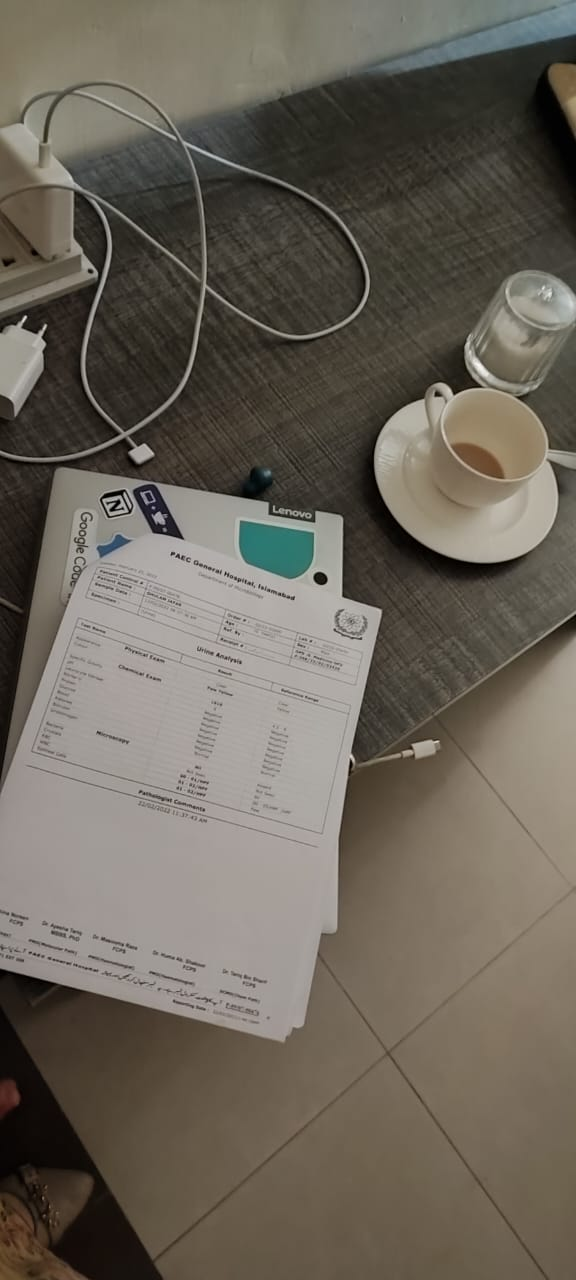report: (22, 607, 352, 833)
